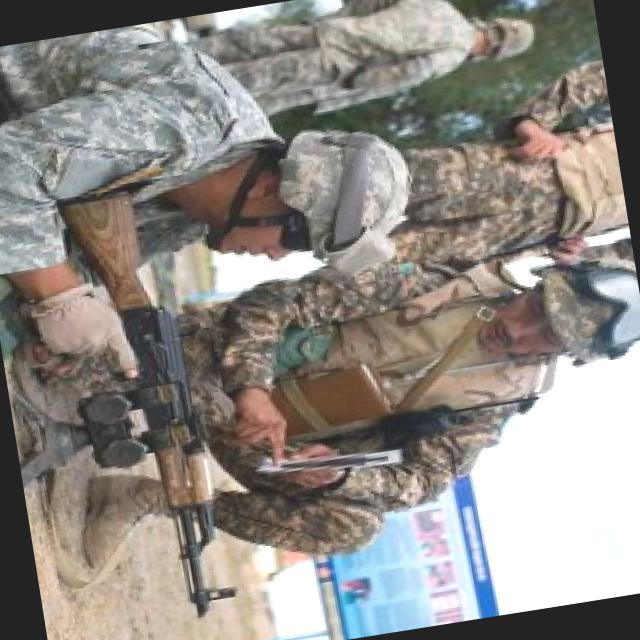long weapon: (48, 157, 246, 632)
